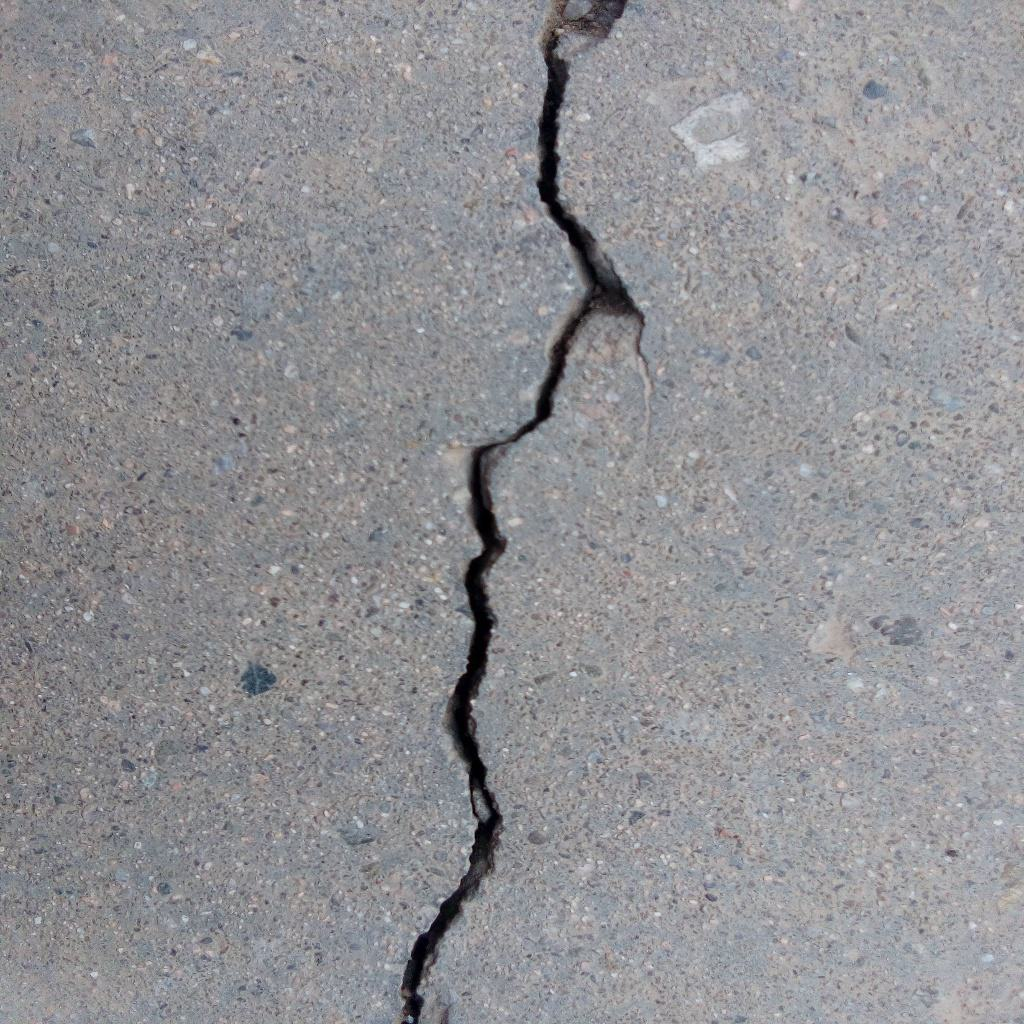Crack: (397, 1, 646, 1024)
